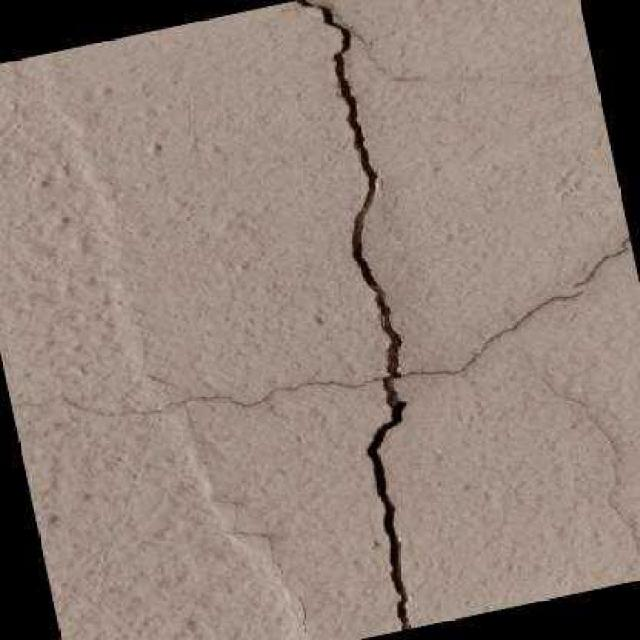D00: (299, 0, 411, 630)
